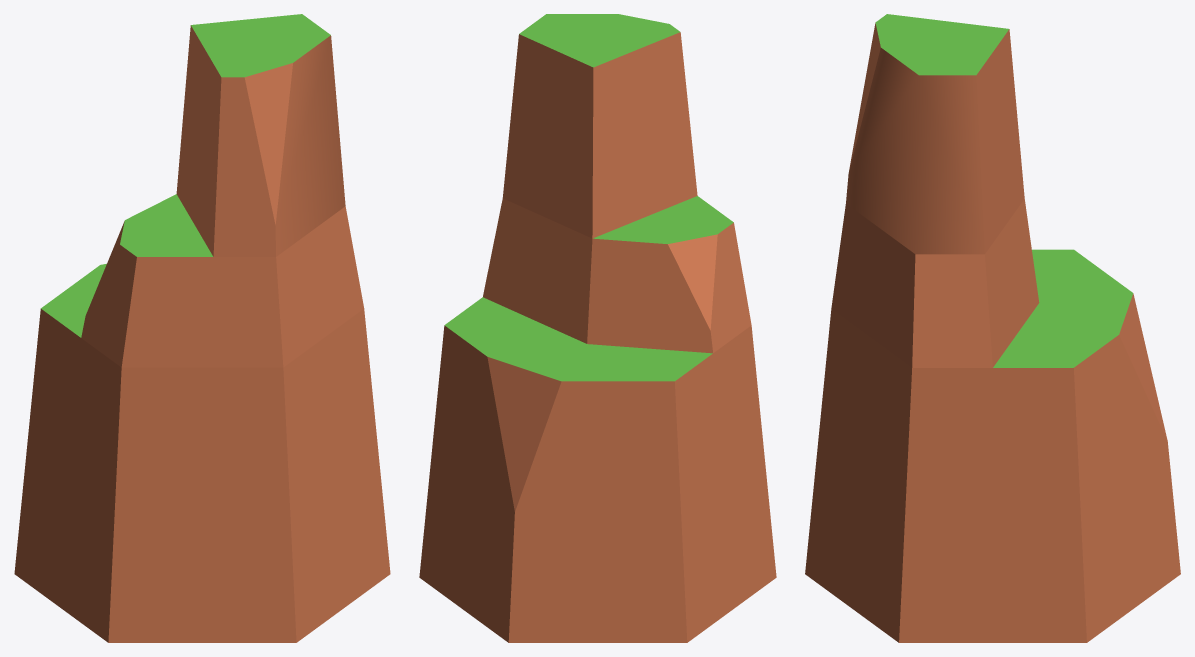
File: rock_tallG.glb
3 renders of one model, left to right at view 1: azimuth 30°, elevation 25°; view 2: azimuth 150°, elevation 25°; view 3: azimuth 270°, elevation 25°, orthographic. The views are drawn at different scales.
Parts seen in each view (by area): view 1: rock_tallG; view 2: rock_tallG; view 3: rock_tallG.
Boxes of the visible parts, x1=… form: rock_tallG: x1=14, y1=14, x2=390, y2=642; rock_tallG: x1=419, y1=14, x2=776, y2=642; rock_tallG: x1=805, y1=14, x2=1180, y2=642.
Bounding box in the file's own units: 0.4249 × 0.7829 × 0.4907.
